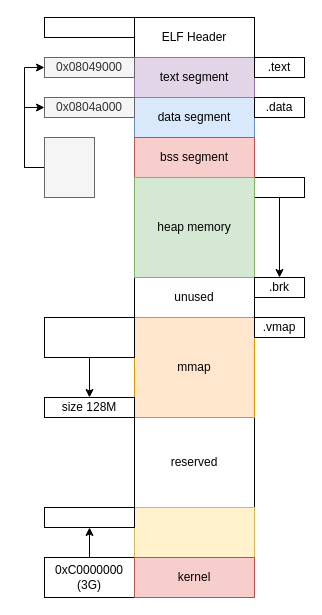
This 322x615 diagram has some shape labels left out. The shapes that lost their labels are listed below. From the top down, each one's centre as x and y in pixels, then its label:
At [89,27]: "0x08048000".
At [69,167]: "Program Header Info".
At [279,187]: ".end".
At [89,337]: "0x10000000 (256M)".
At [89,517]: "size 2M".
At [194,532]: "stack".
